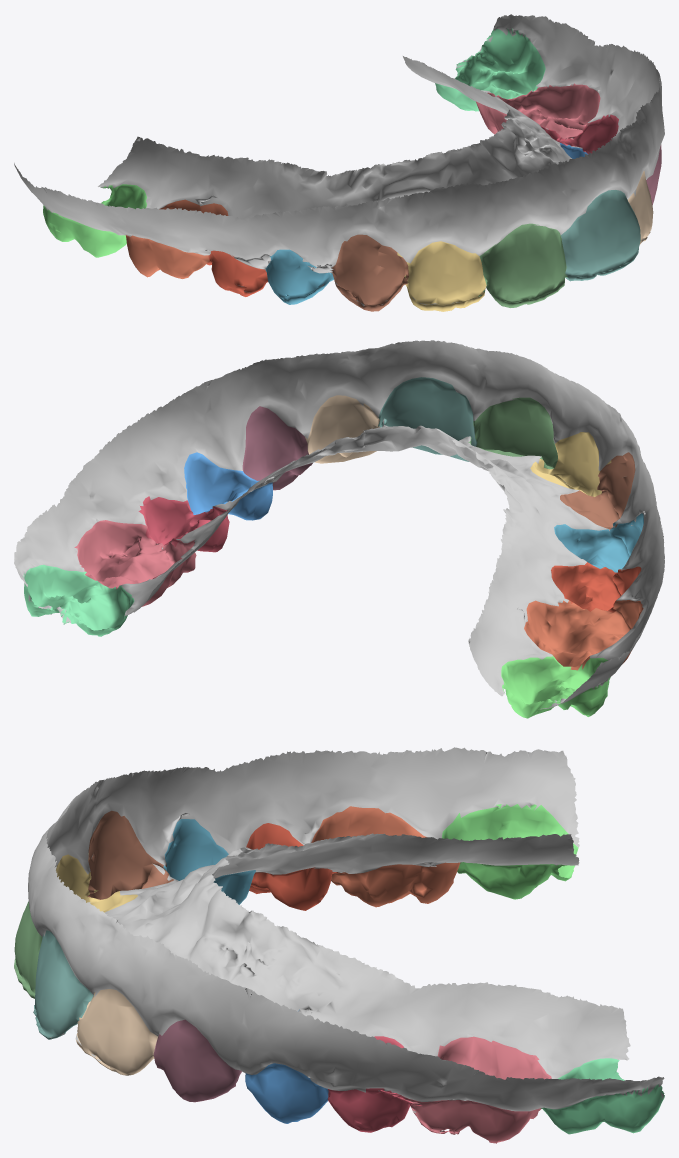
Rendered from ID10005_UPPER.obj.
The picture shows the model from 3 angles, top to bottom: view 1: azimuth 30°, elevation 25°; view 2: azimuth 150°, elevation 25°; view 3: azimuth 270°, elevation 25°; orthographic projection. The views are drawn at different scales.
Parts seen in each view (by area): view 1: pred_ID10005_UPPER.001; view 2: pred_ID10005_UPPER.001; view 3: pred_ID10005_UPPER.001.
Part boxes in pixels (x1,y1,x2,y2): pred_ID10005_UPPER.001: (14,14,664,311); pred_ID10005_UPPER.001: (14,340,664,718); pred_ID10005_UPPER.001: (14,747,664,1143).
Bounding box in the file's own units: 67.04 × 17.41 × 55.63.
